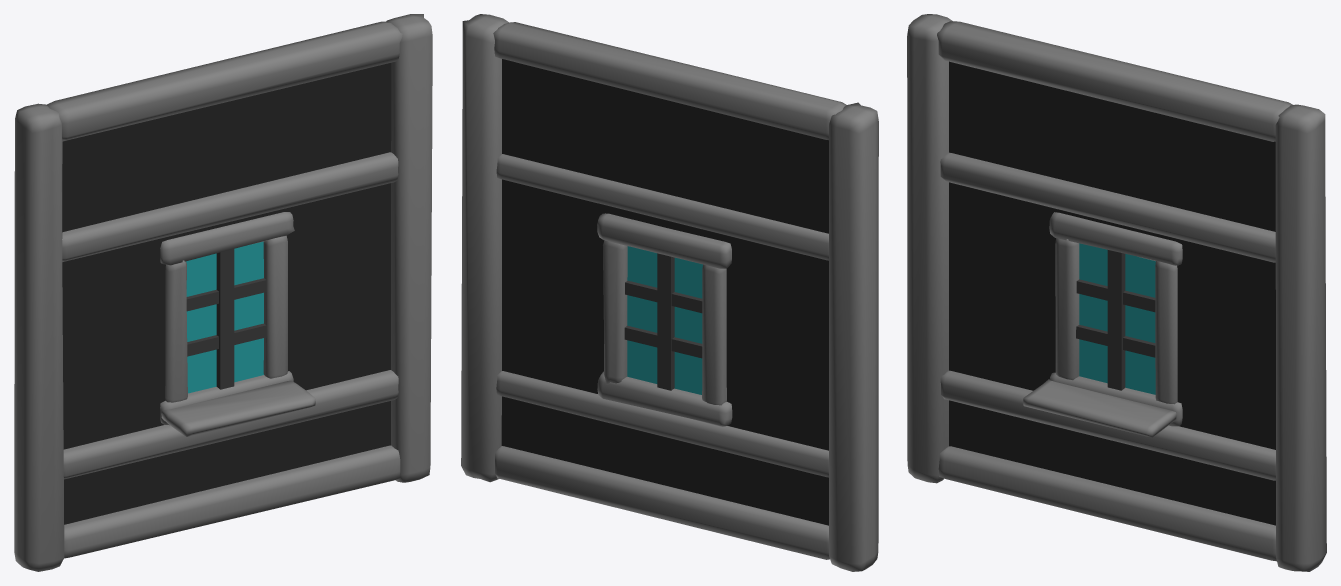
File: SM_wallpiece_window_b.fbx
The picture shows the model from 3 angles, left to right: view 1: azimuth 30°, elevation 25°; view 2: azimuth 150°, elevation 25°; view 3: azimuth 330°, elevation 25°; orthographic projection.
Visible parts, largest first — view 1: Object342753; view 2: Object342753; view 3: Object342753.
Boxes of the visible parts, x1,y1,x2,y2 form: Object342753: [14, 14, 432, 571]; Object342753: [461, 14, 878, 571]; Object342753: [907, 14, 1326, 571].
Size of the model in its own units: 108 by 115 by 17.98.
